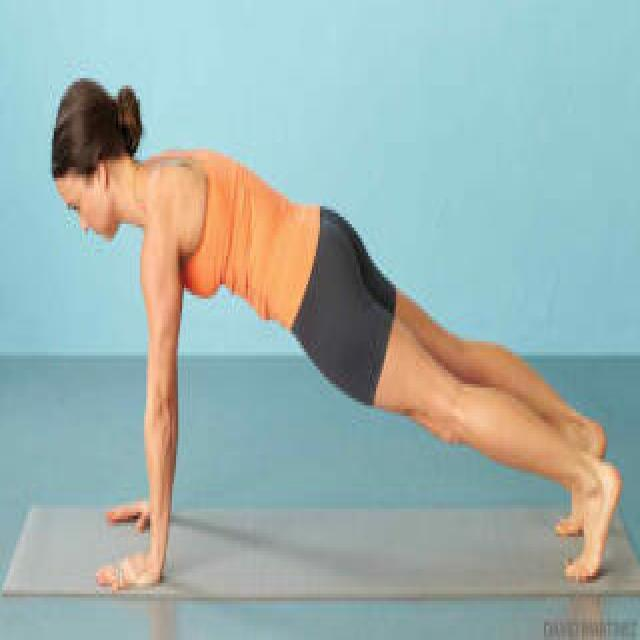yoga-pose plank: (52, 74, 622, 592)
